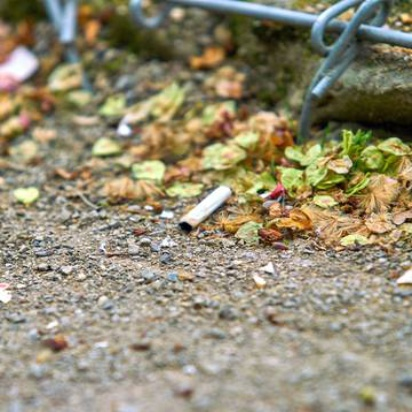cigarette: (177, 181, 234, 233)
